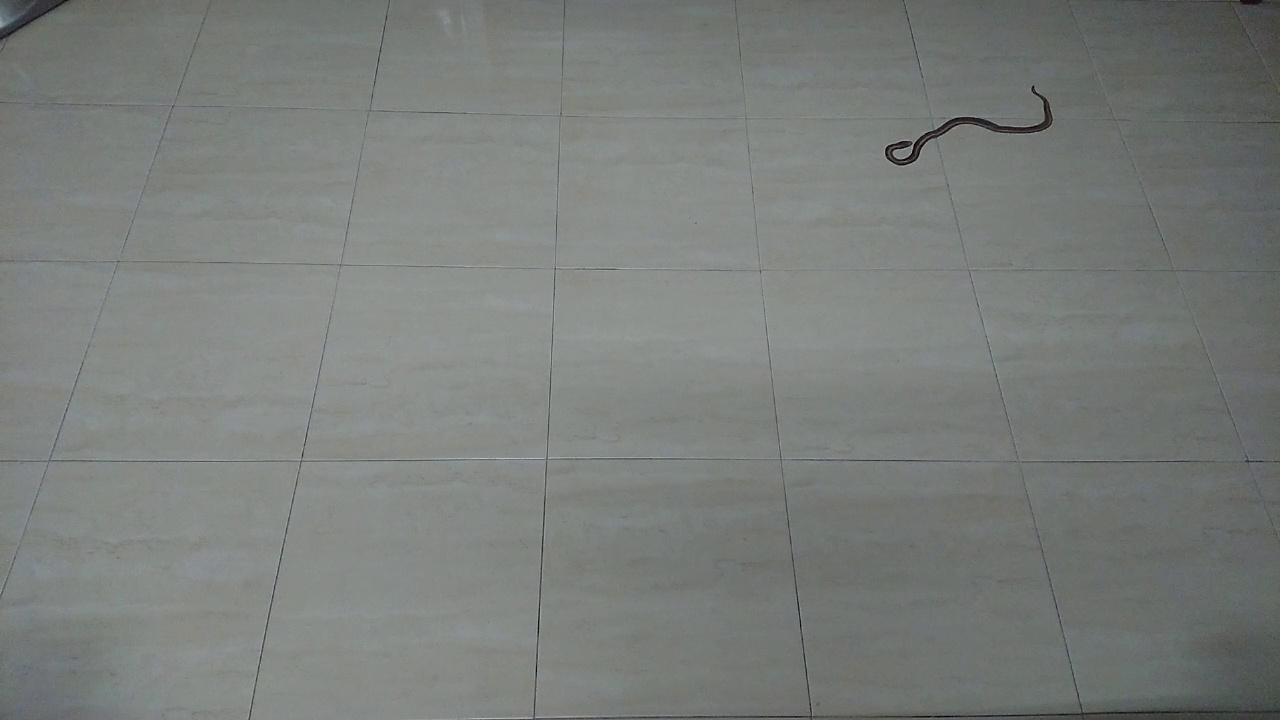snake: (872, 75, 1066, 181)
